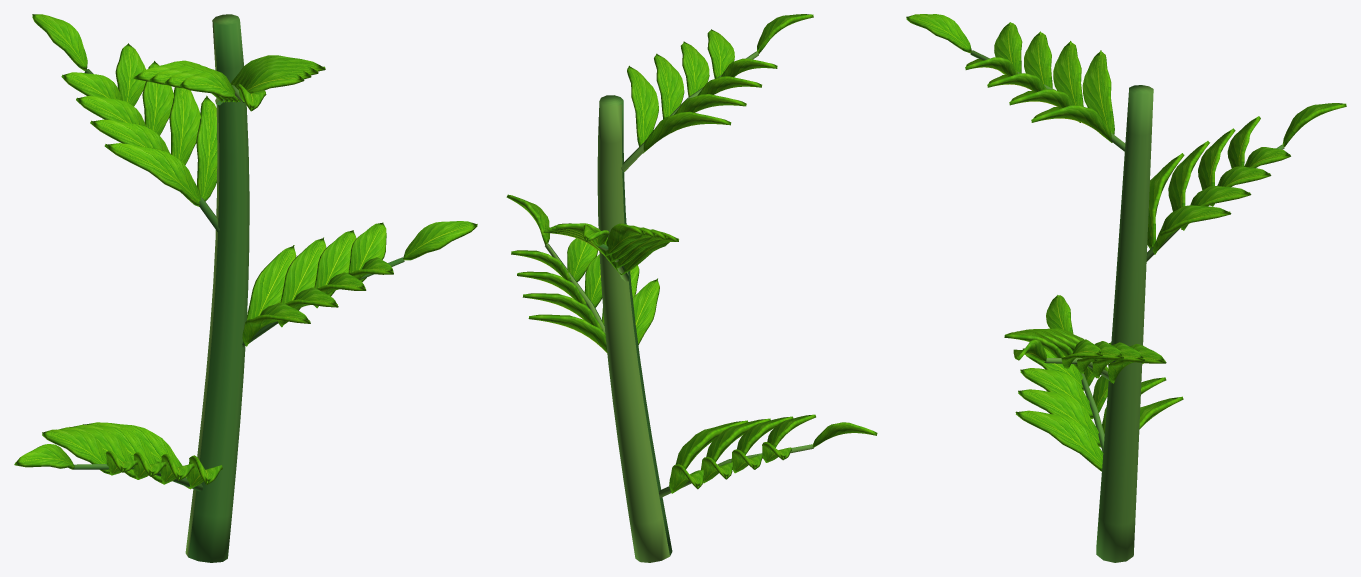
File: NP_Marigold_Young.fbx
3 renders of one model, left to right at view 1: azimuth 30°, elevation 25°; view 2: azimuth 150°, elevation 25°; view 3: azimuth 270°, elevation 25°, orthographic. The views are drawn at different scales.
Visible parts, largest first — view 1: NP_Marigold_Young; view 2: NP_Marigold_Young; view 3: NP_Marigold_Young.
Part boxes in pixels (box(x1,y1,x2,y2)): NP_Marigold_Young: box(14, 14, 477, 562); NP_Marigold_Young: box(506, 14, 877, 562); NP_Marigold_Young: box(906, 14, 1346, 562).
Bounding box in the file's own units: 21.42 × 25.82 × 20.07.
